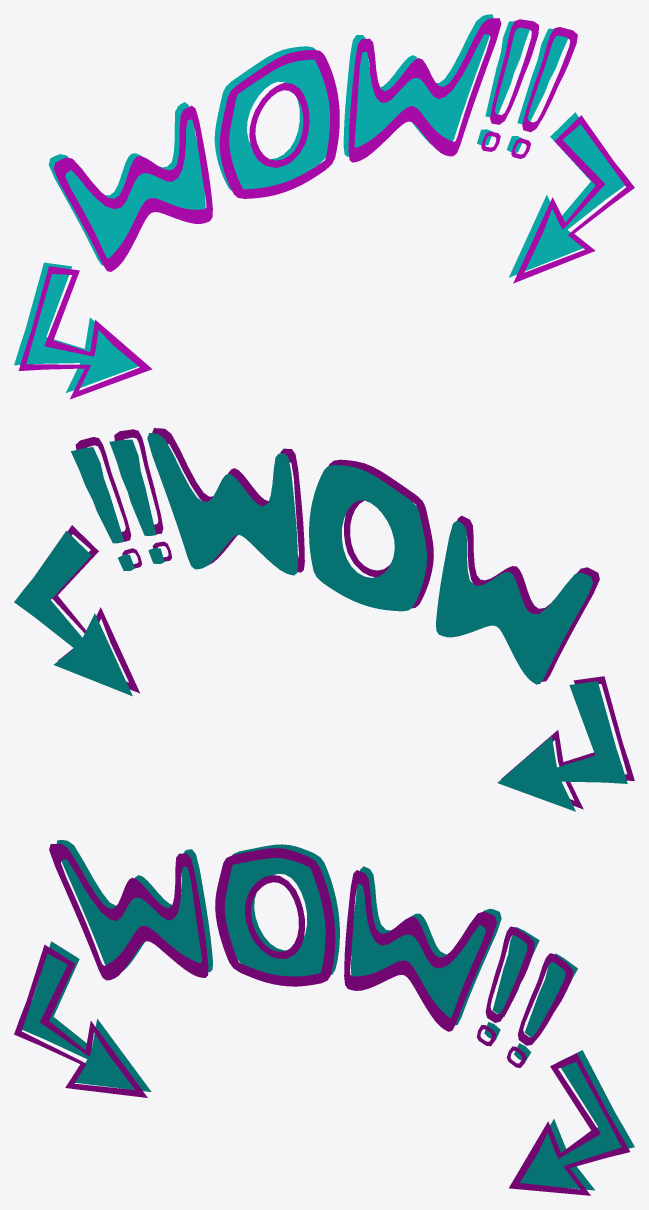
File: mesh_text_wow.fbx
3 renders of one model, top to bottom at view 1: azimuth 30°, elevation 25°; view 2: azimuth 150°, elevation 25°; view 3: azimuth 330°, elevation 25°, orthographic.
Visible parts, largest first — view 1: mesh_text_wow, mesh_text_wow1, mesh_text_wow2, mesh_text_wow4, mesh_text_wow3, mesh_text_wow5; view 2: mesh_text_wow, mesh_text_wow1, mesh_text_wow4, mesh_text_wow2, mesh_text_wow3, mesh_text_wow5; view 3: mesh_text_wow, mesh_text_wow1, mesh_text_wow4, mesh_text_wow2, mesh_text_wow3, mesh_text_wow5.
Boxes of the visible parts, box(x1,y1,x2,y2) form: mesh_text_wow: box(48, 14, 568, 265); mesh_text_wow1: box(53, 18, 577, 271); mesh_text_wow2: box(14, 262, 138, 392); mesh_text_wow4: box(509, 112, 624, 277); mesh_text_wow3: box(18, 266, 152, 399); mesh_text_wow5: box(513, 115, 634, 283); mesh_text_wow: box(71, 433, 592, 684); mesh_text_wow1: box(75, 428, 599, 681); mesh_text_wow4: box(14, 531, 132, 696); mesh_text_wow2: box(497, 681, 627, 811); mesh_text_wow3: box(501, 676, 634, 809); mesh_text_wow5: box(52, 525, 140, 693); mesh_text_wow: box(56, 840, 577, 1062); mesh_text_wow1: box(49, 843, 573, 1067); mesh_text_wow4: box(520, 1050, 634, 1190); mesh_text_wow2: box(22, 941, 151, 1091); mesh_text_wow3: box(14, 944, 147, 1097); mesh_text_wow5: box(509, 1053, 630, 1195).
Size of the model in its own units: 0.128 by 0.0581 by 0.00212.
